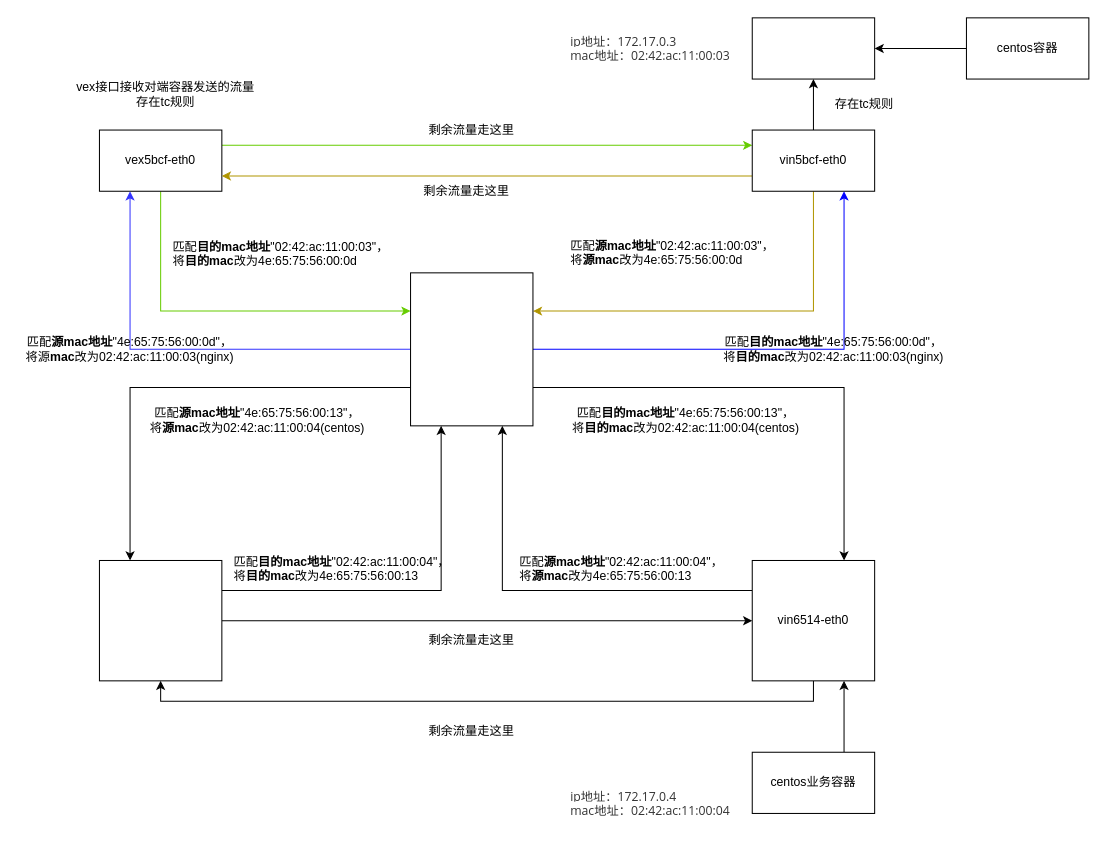
The diagram is 1107 pixels wide and 842 high, and some of its shapes have lost their labels. The box of each missing label's shape, as (x1, y1, x2, y2) in pixels:
nginx业务容器: (751, 17, 875, 79)
vbr-neuv: (410, 272, 533, 426)
vex6514-eth0: (98, 559, 222, 681)
